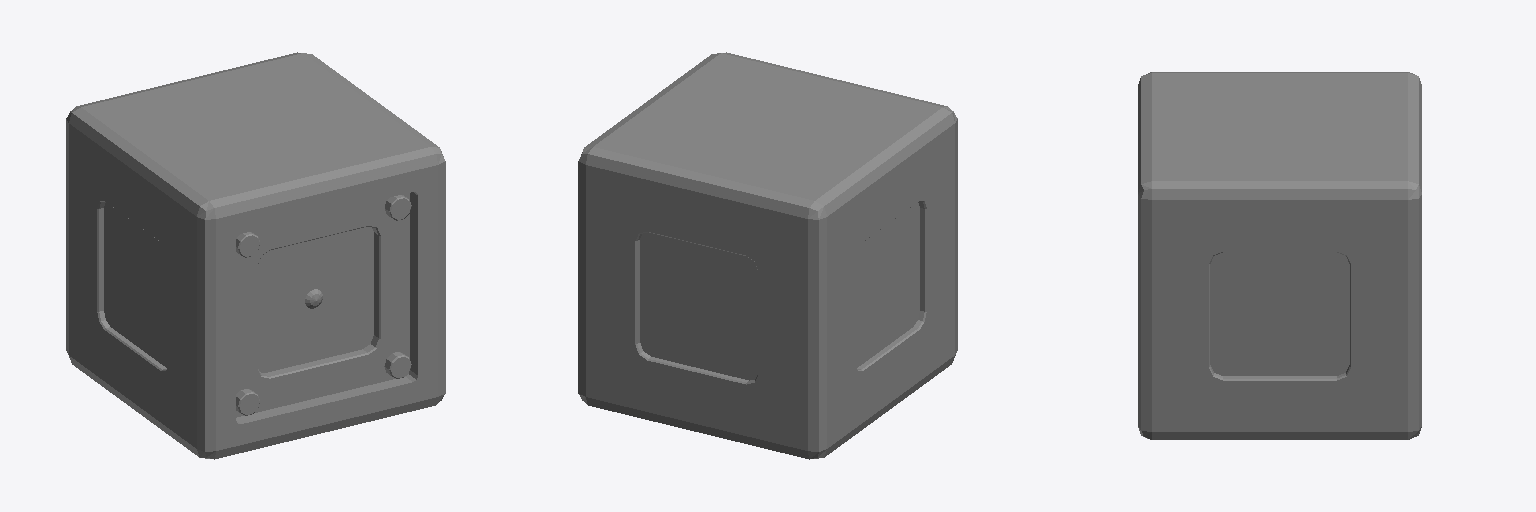
Rendered from cpz_obj_blocks_2b.obj.
The picture shows the model from 3 angles: view 1: azimuth 30°, elevation 25°; view 2: azimuth 150°, elevation 25°; view 3: azimuth 270°, elevation 25°; orthographic projection.
Parts seen in each view (by area): view 1: cpz_metal_st1_box01_cmn_dsn, cpz_etc_tn1_motionlight01; view 2: cpz_metal_st1_box01_cmn_dsn, cpz_etc_tn1_motionlight01; view 3: cpz_metal_st1_box01_cmn_dsn, cpz_etc_tn1_motionlight01.
Boxes of the visible parts, <box> form: cpz_metal_st1_box01_cmn_dsn: <box>66,52,445,459</box>; cpz_etc_tn1_motionlight01: <box>104,202,373,372</box>; cpz_metal_st1_box01_cmn_dsn: <box>578,52,957,459</box>; cpz_etc_tn1_motionlight01: <box>640,202,919,380</box>; cpz_metal_st1_box01_cmn_dsn: <box>1138,72,1421,439</box>; cpz_etc_tn1_motionlight01: <box>1210,252,1349,375</box>.
Size of the model in its own units: 71.88 by 71.88 by 71.88.